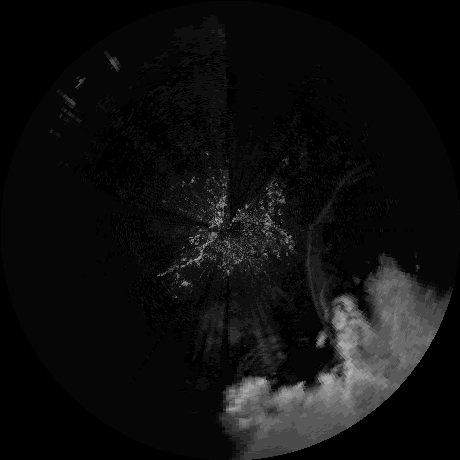frontgust: (305, 226, 327, 327)
